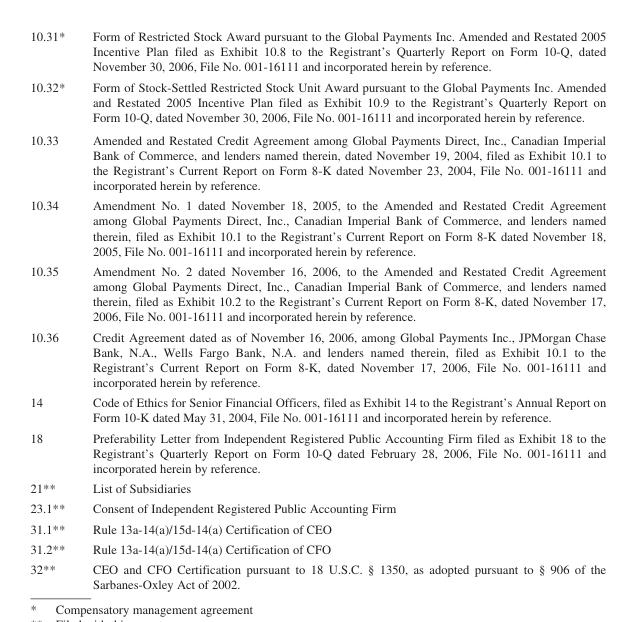table: (29, 28, 605, 590)
table column: (78, 28, 605, 590), (29, 28, 78, 590)
table row: (29, 127, 605, 194), (29, 194, 605, 260), (29, 260, 605, 326), (29, 326, 605, 391), (29, 76, 605, 127), (29, 427, 605, 477), (29, 28, 605, 76), (29, 391, 605, 427), (29, 558, 605, 590), (29, 497, 605, 518), (29, 477, 605, 497), (29, 518, 605, 538), (29, 538, 605, 558)
